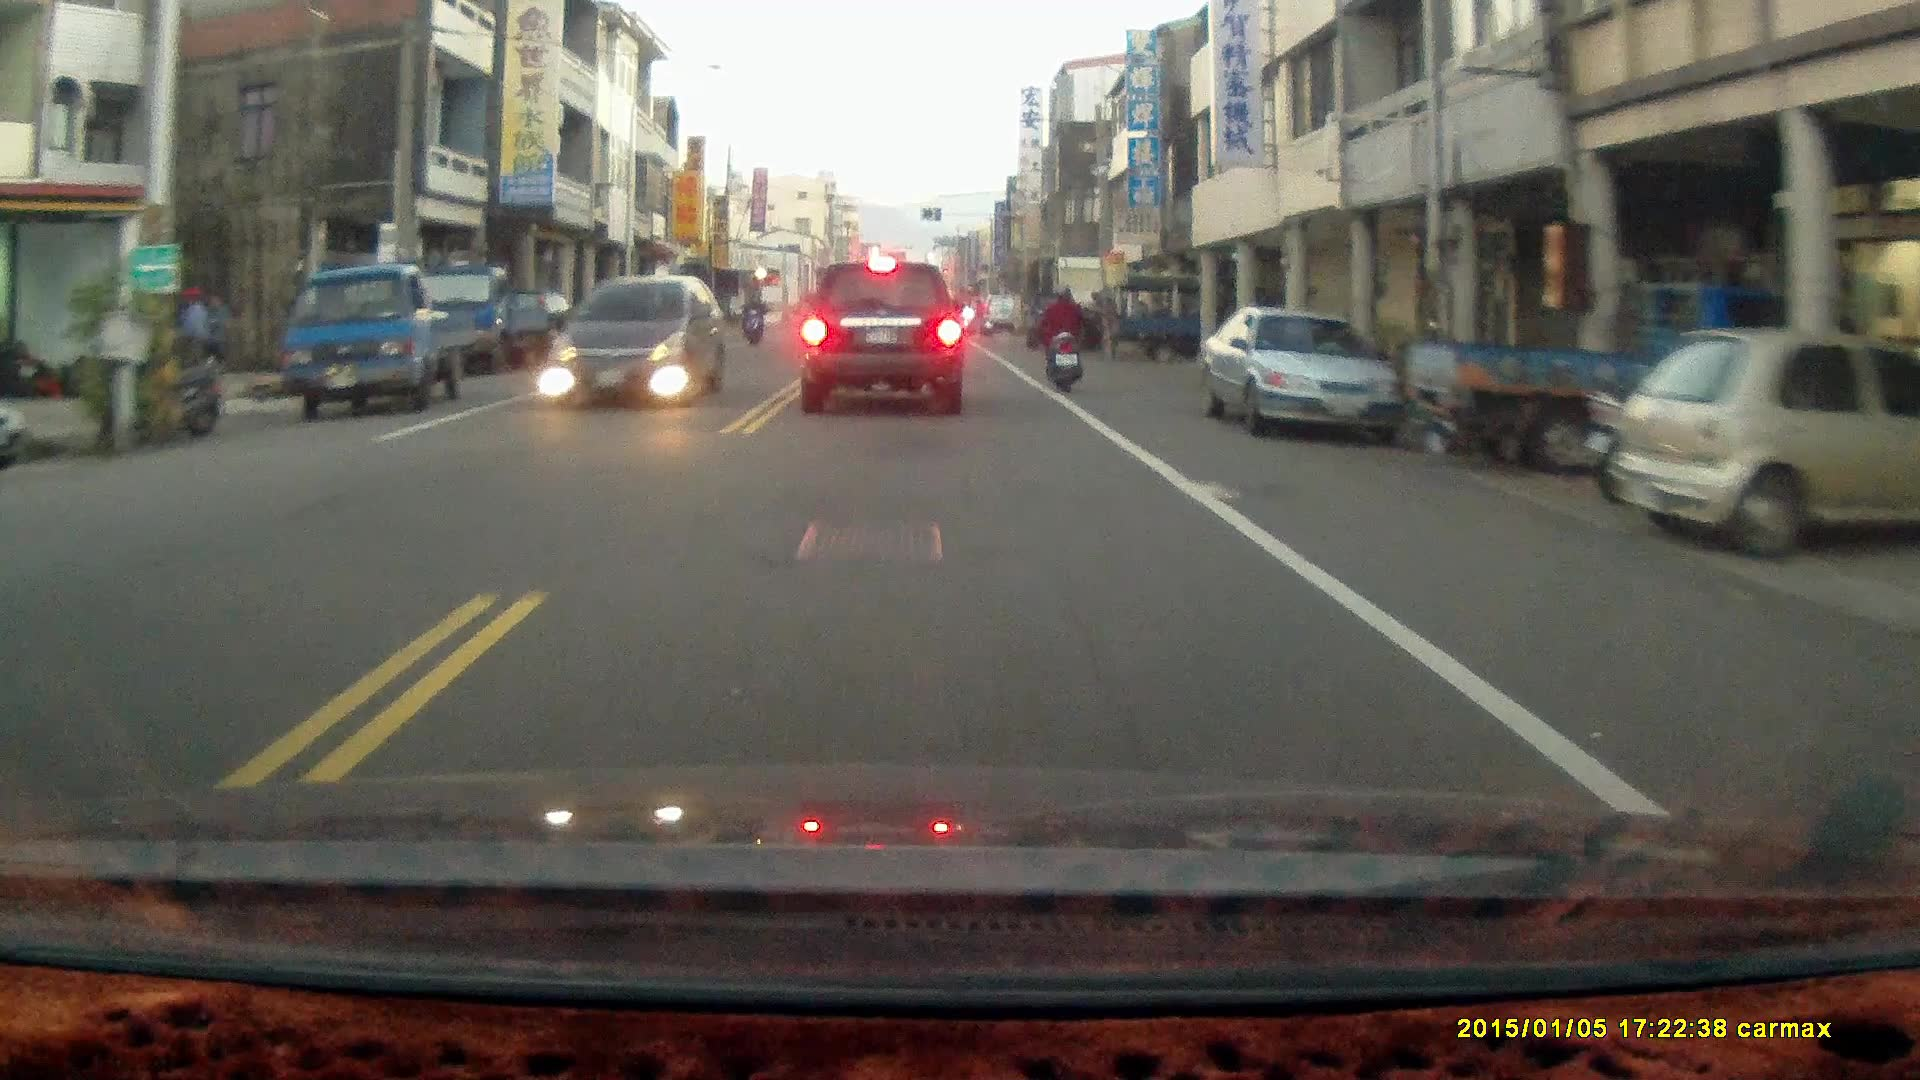pedestrian: (178, 284, 207, 388), (204, 290, 233, 386)
rider: (1039, 281, 1084, 393), (739, 294, 766, 347), (963, 297, 996, 339)
vehicle: (1413, 275, 1812, 477), (1608, 324, 1920, 567), (286, 265, 484, 424), (795, 258, 967, 421), (1202, 310, 1404, 442), (550, 277, 725, 413), (408, 258, 562, 375), (1115, 274, 1275, 362)
